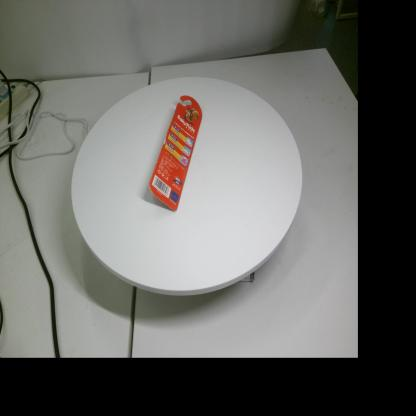Personal Hygiene: (148, 95, 202, 211)
